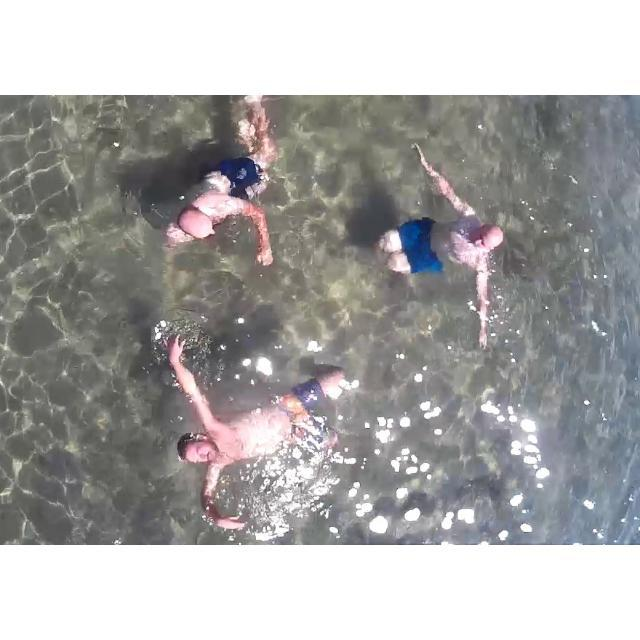human: (366, 117, 511, 362), (159, 95, 296, 273)
